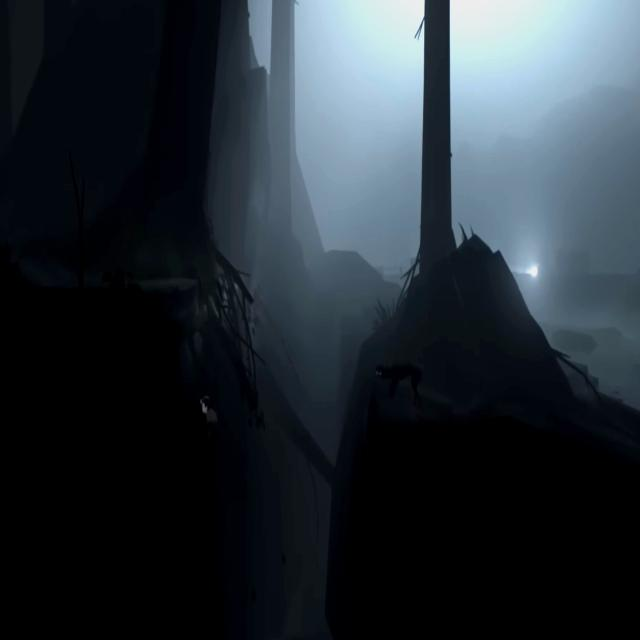boy: (200, 395, 218, 436)
